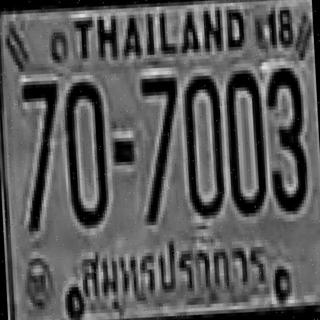N00: (61, 78, 108, 226), (181, 72, 223, 216), (224, 68, 266, 212)
N03: (264, 64, 306, 209)
N07: (19, 78, 64, 230), (138, 74, 183, 222), (19, 77, 61, 181), (140, 74, 180, 178)
P57: (72, 232, 274, 308)
